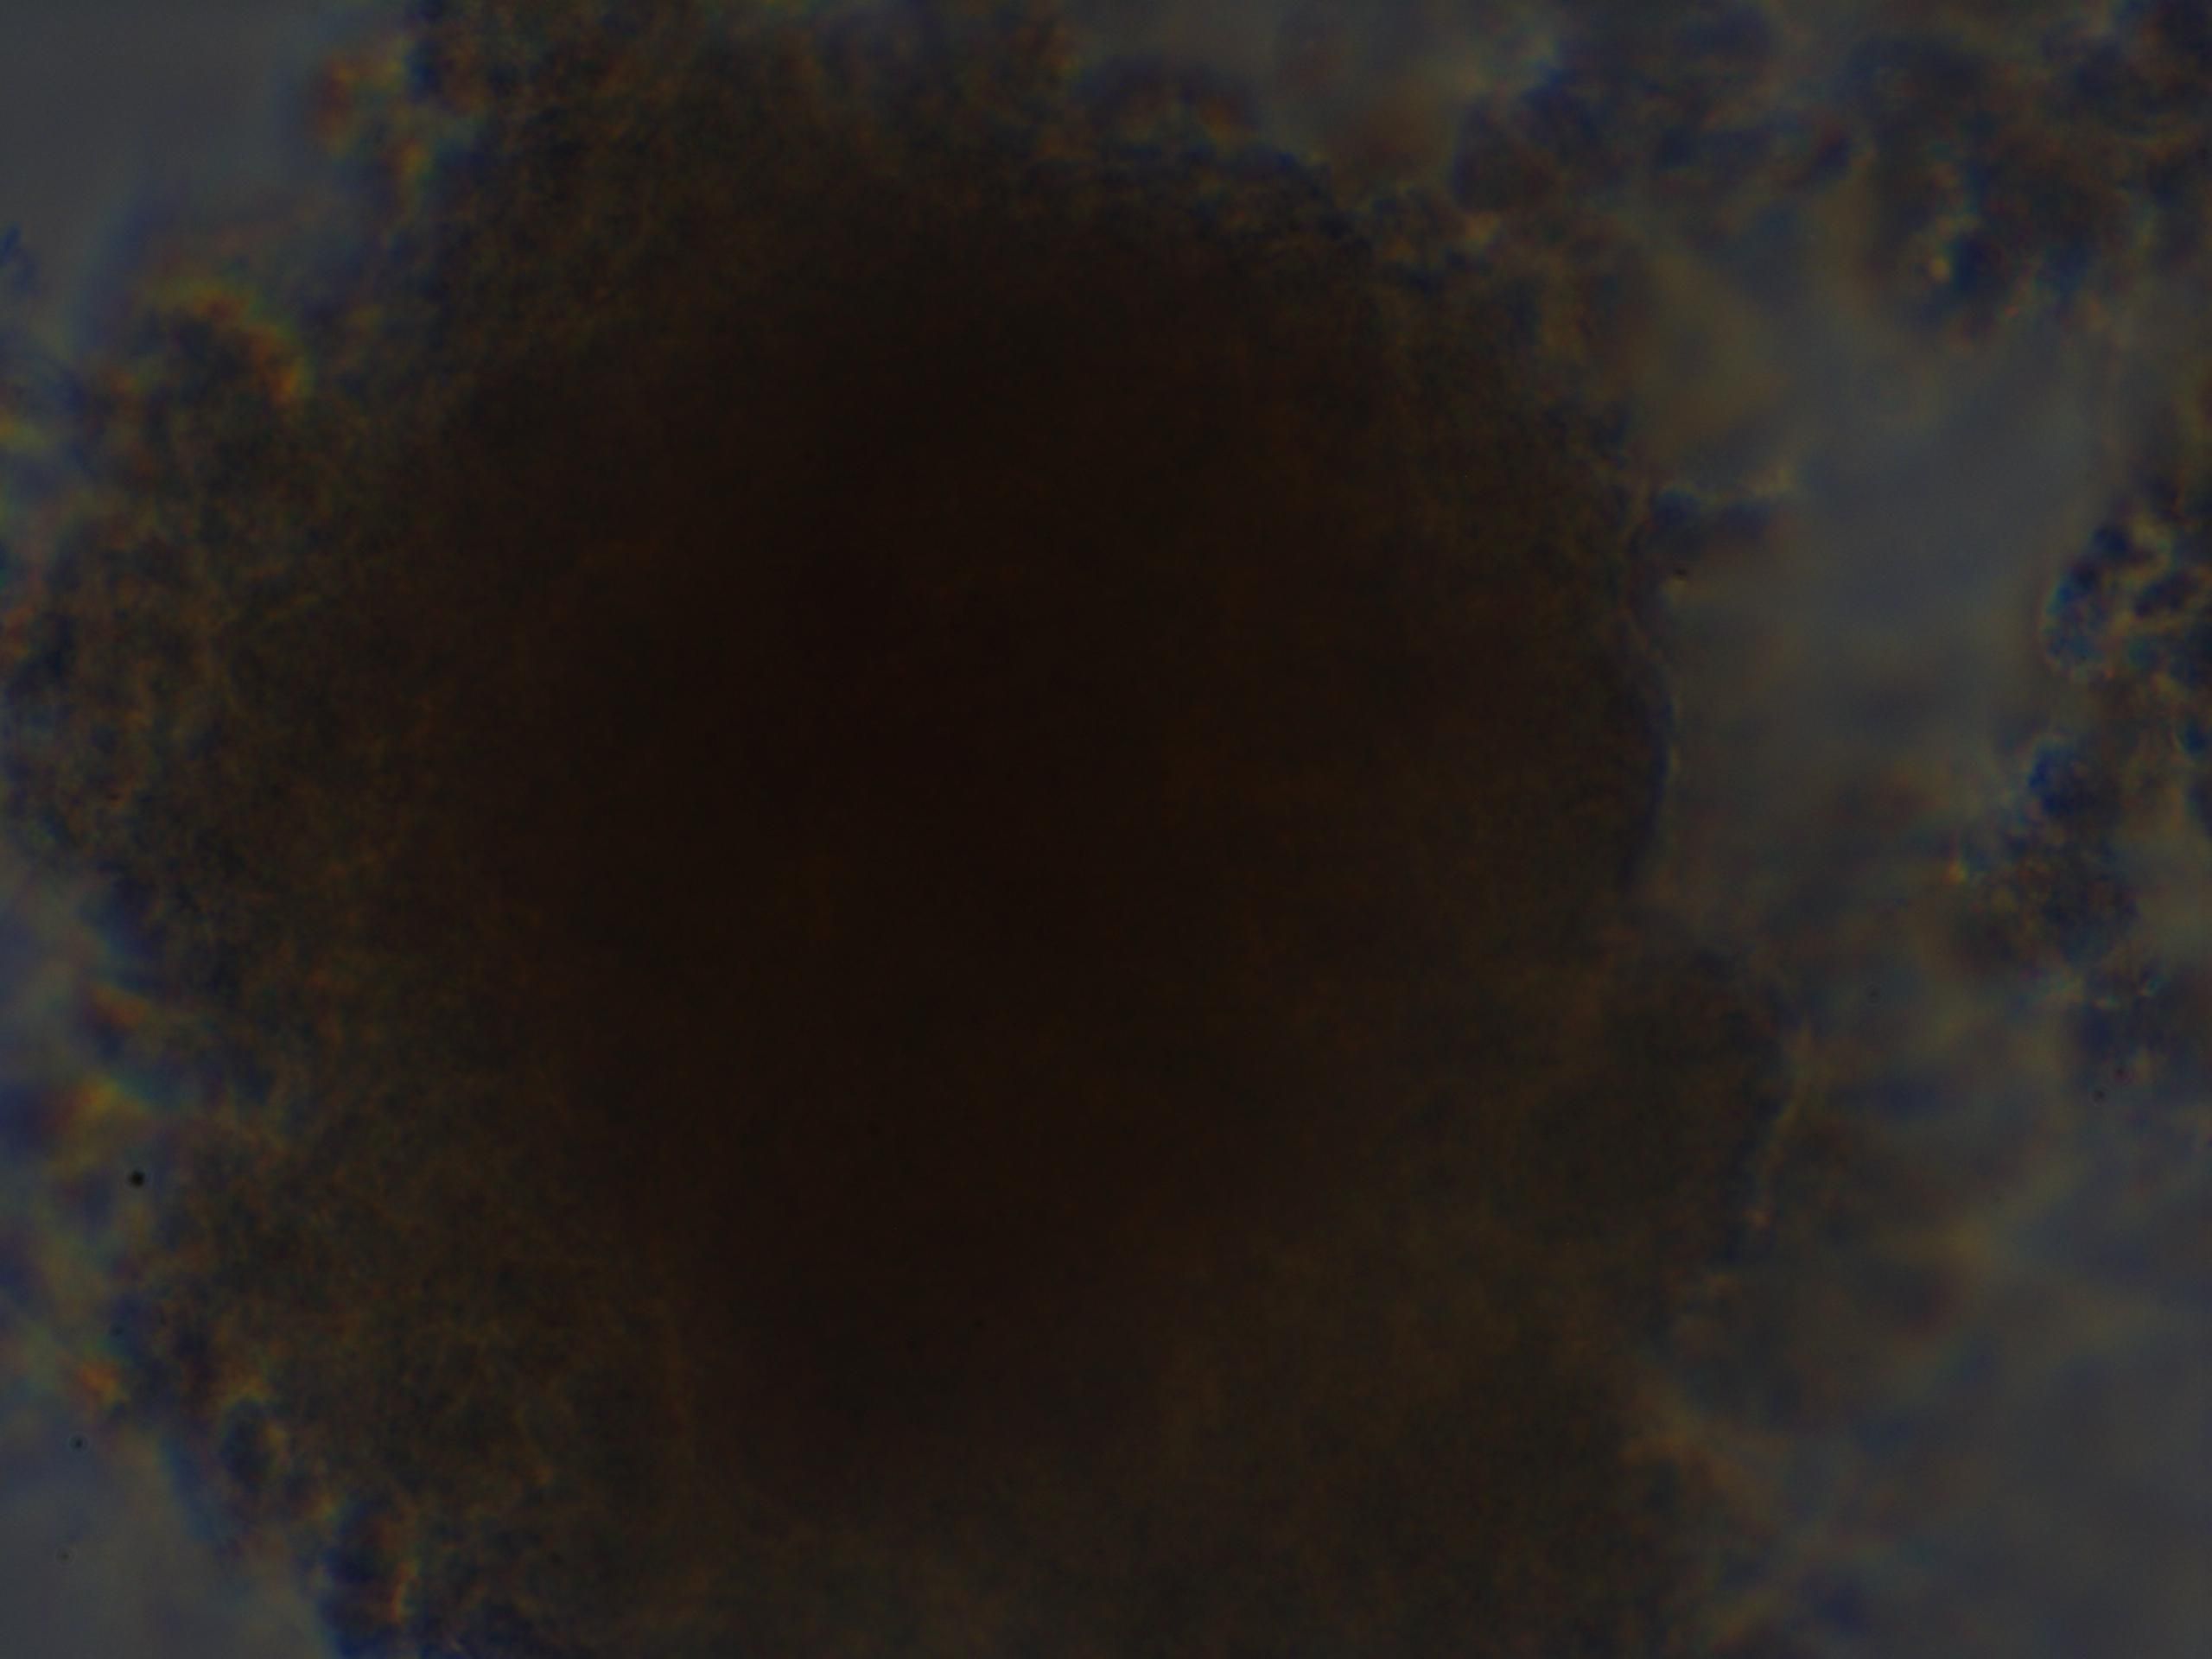spherical_floc: (3, 5, 1825, 1659)
